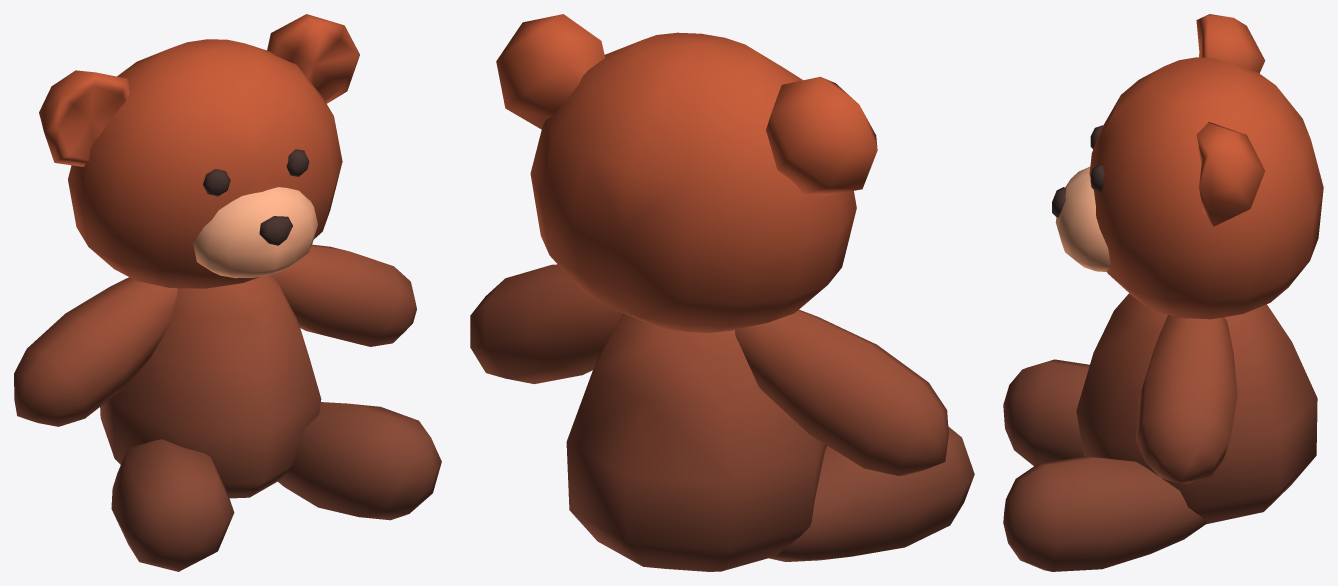
File: bear_001.fbx
3 views of the same model, side by side, from view 1: azimuth 30°, elevation 25°; view 2: azimuth 150°, elevation 25°; view 3: azimuth 270°, elevation 25° (orthographic). The views are drawn at different scales.
Parts seen in each view (by area): view 1: bear_001; view 2: bear_001; view 3: bear_001.
Part boxes in pixels (x1=…): bear_001: x1=14, y1=14, x2=441, y2=571; bear_001: x1=470, y1=14, x2=974, y2=571; bear_001: x1=1003, y1=14, x2=1323, y2=571.
Size of the model in its own units: 76.04 by 52.31 by 81.57.
